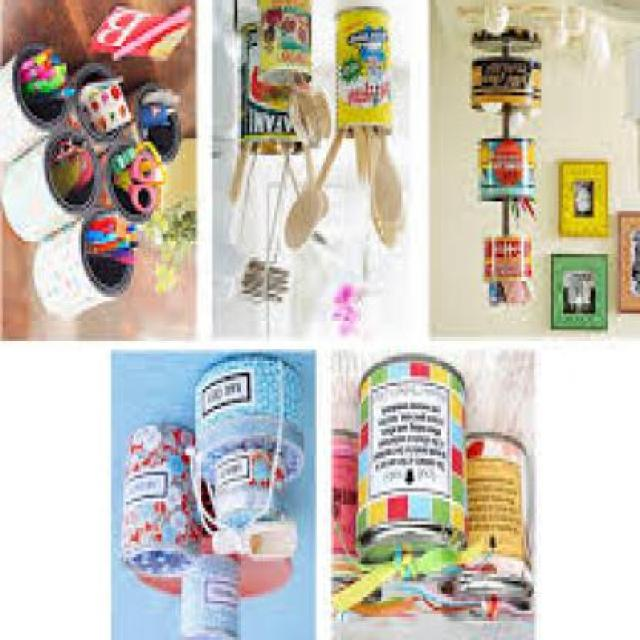METAL: (362, 363, 469, 557), (438, 435, 533, 600), (199, 359, 306, 488), (123, 429, 200, 580), (35, 219, 136, 323), (5, 139, 101, 244), (3, 45, 74, 168), (242, 26, 309, 156), (336, 431, 382, 607), (339, 13, 398, 132), (217, 455, 285, 528), (182, 560, 242, 638), (261, 3, 314, 83), (479, 142, 541, 201), (476, 63, 544, 112), (484, 241, 536, 284), (472, 26, 543, 52)
